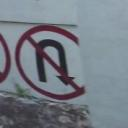NoVirarU: (12, 21, 90, 103)
